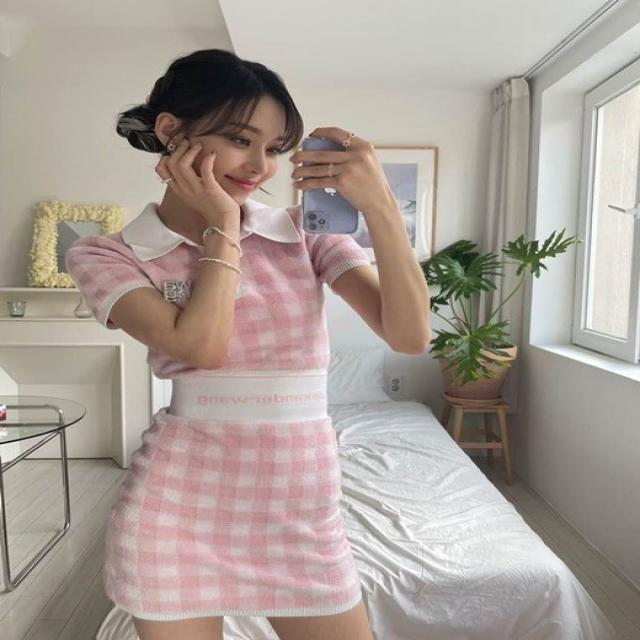lens: (306, 211, 328, 232)
phone: (298, 130, 362, 237)
